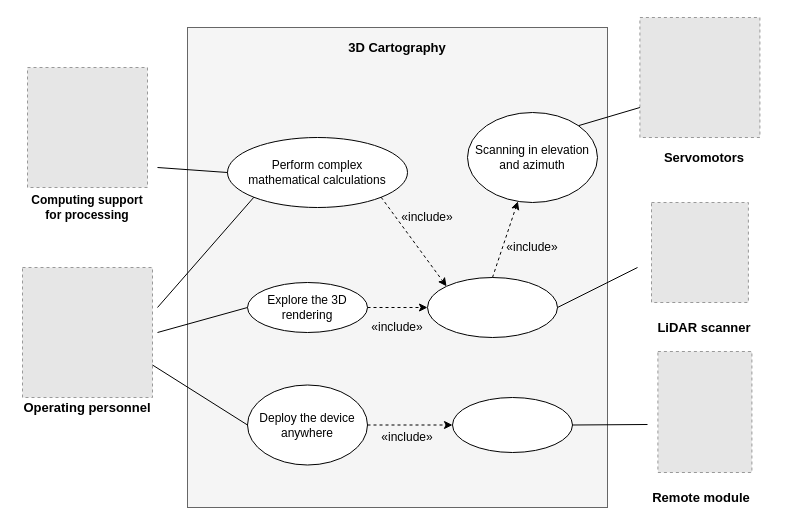
Some shapes in this 787 by 525 pixel diagram are drawn without their labels. Grey dashed boxes stand in for pictures. The centre of each missing label's shape, as x and y in pixels:
Remote communication: (512,424)
Scan a room at 360°: (492,307)
